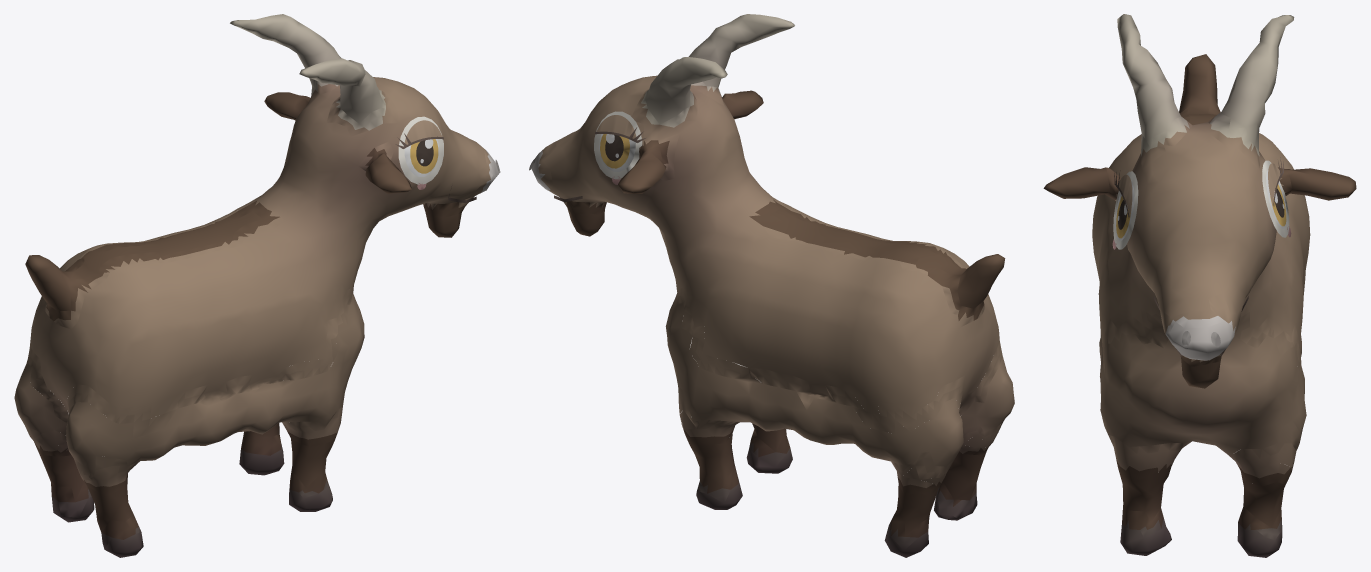
The model's file is arapawa_goat.glb.
3 renders of one model, left to right at view 1: azimuth 30°, elevation 25°; view 2: azimuth 150°, elevation 25°; view 3: azimuth 270°, elevation 25°, orthographic. The views are drawn at different scales.
Visible parts, largest first — view 1: arapawa_goat; view 2: arapawa_goat; view 3: arapawa_goat.
Boxes of the visible parts, x1=… form: arapawa_goat: x1=14, y1=14, x2=500, y2=557; arapawa_goat: x1=529, y1=14, x2=1014, y2=557; arapawa_goat: x1=1043, y1=14, x2=1356, y2=557.
Bounding box in the file's own units: 0.7793 × 0.7152 × 0.3811.
